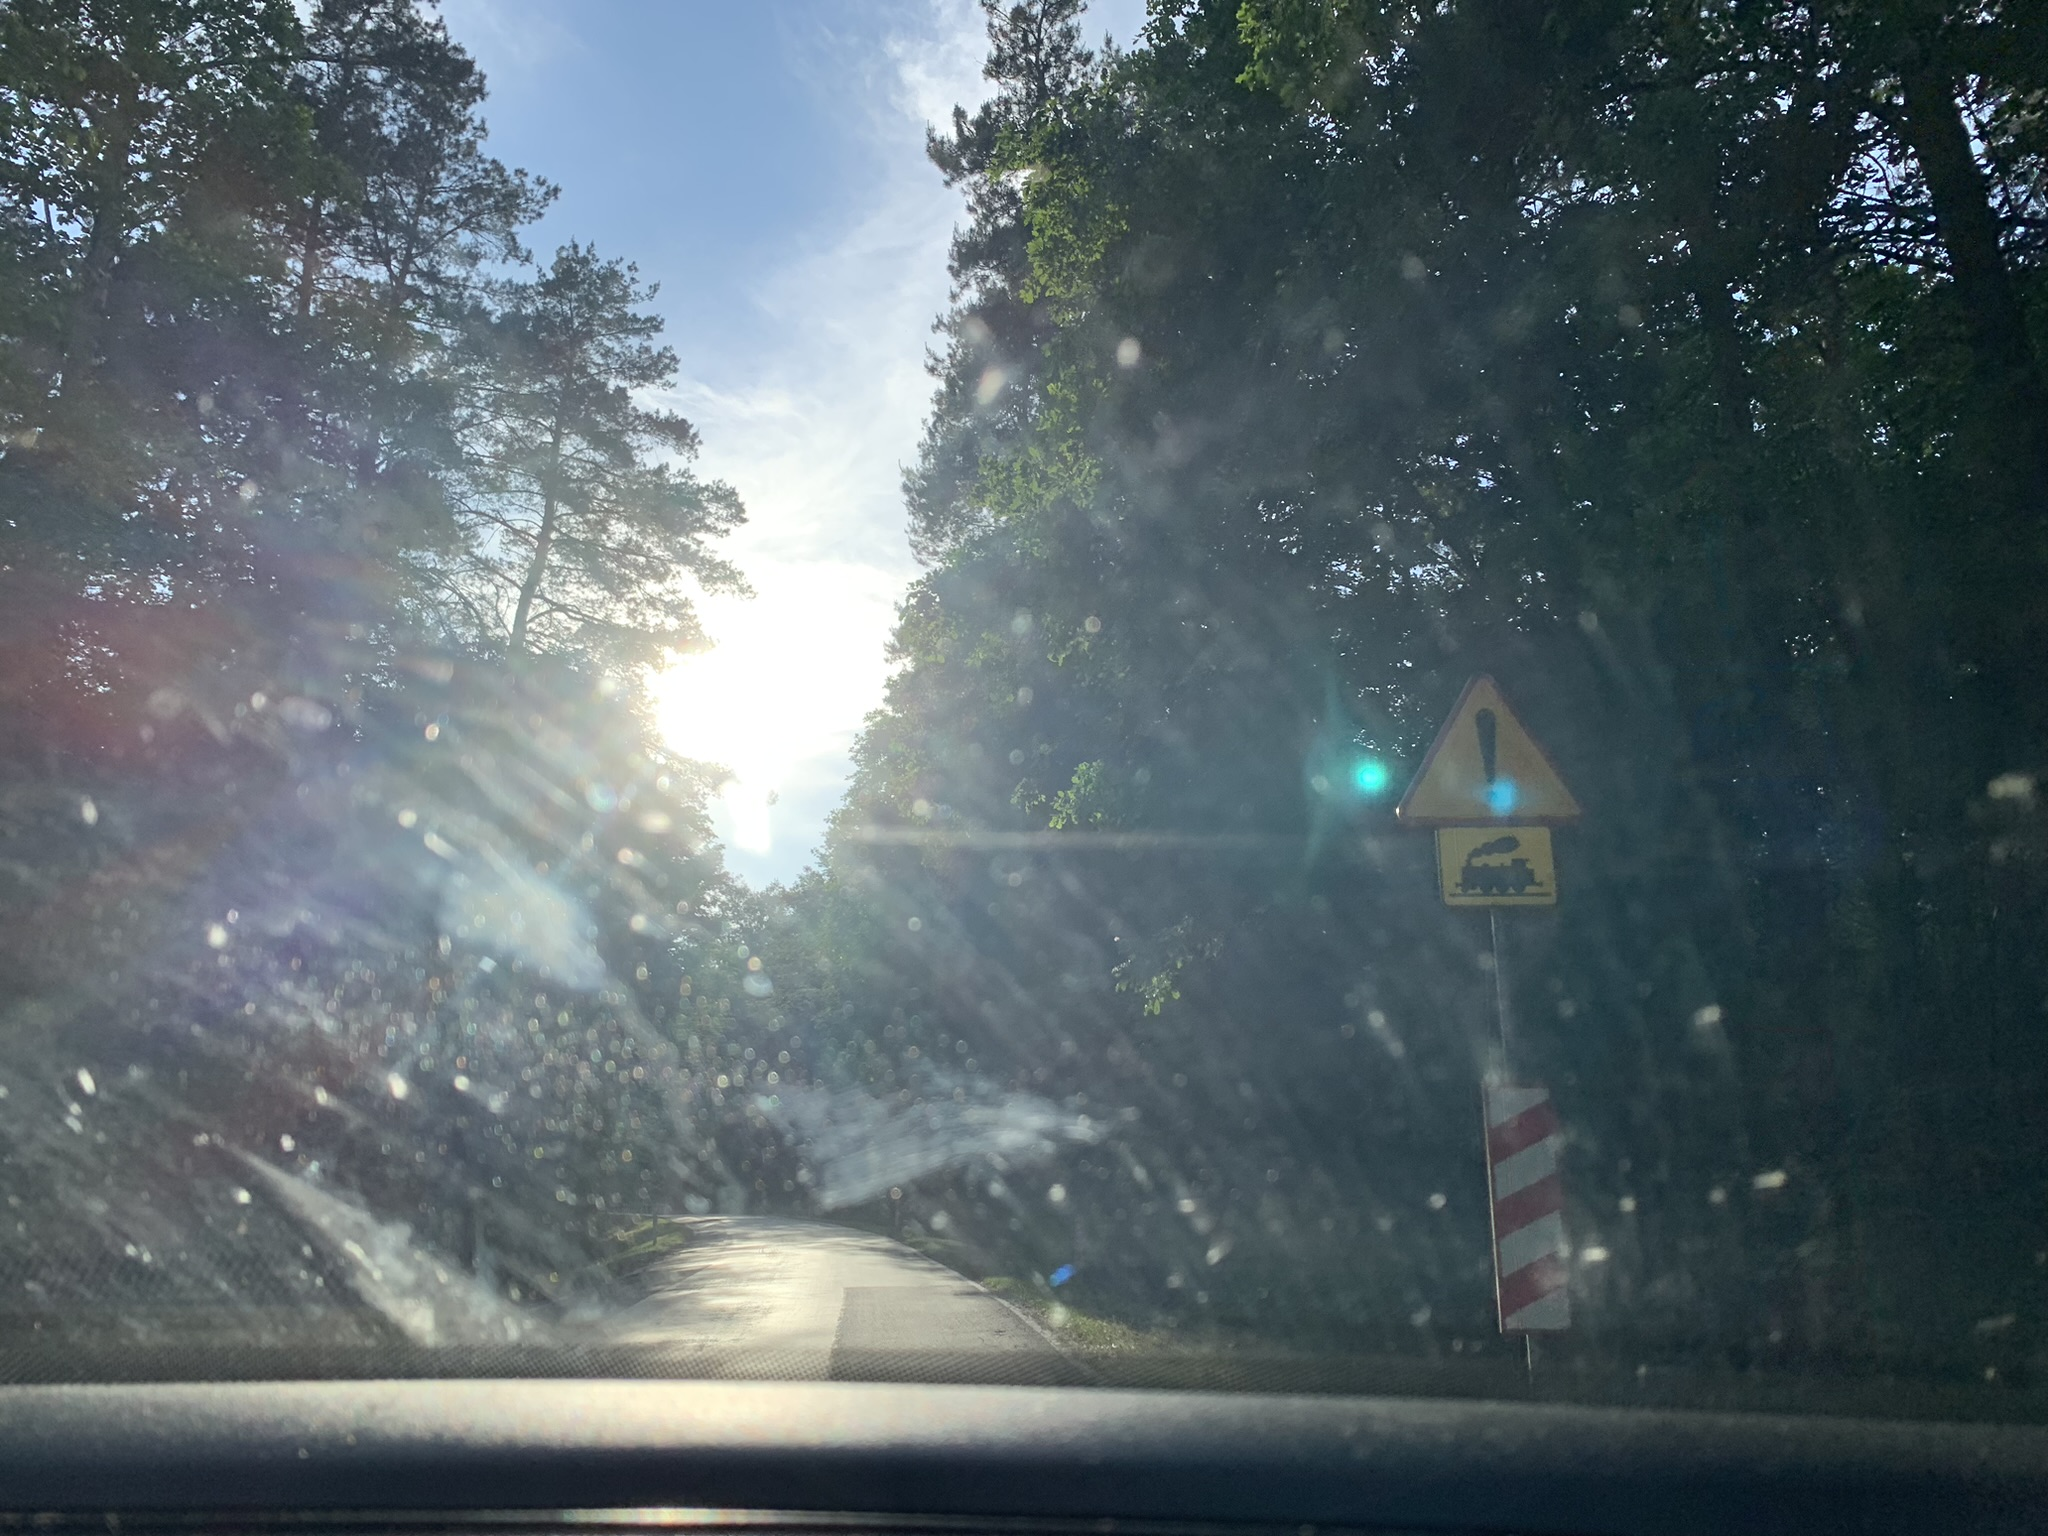t10: (1422, 668, 1574, 923)
